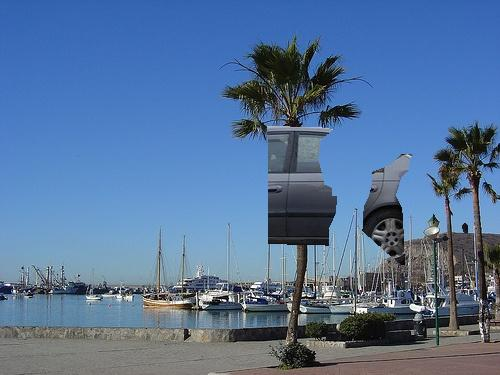tampered: (268, 127, 468, 265)
